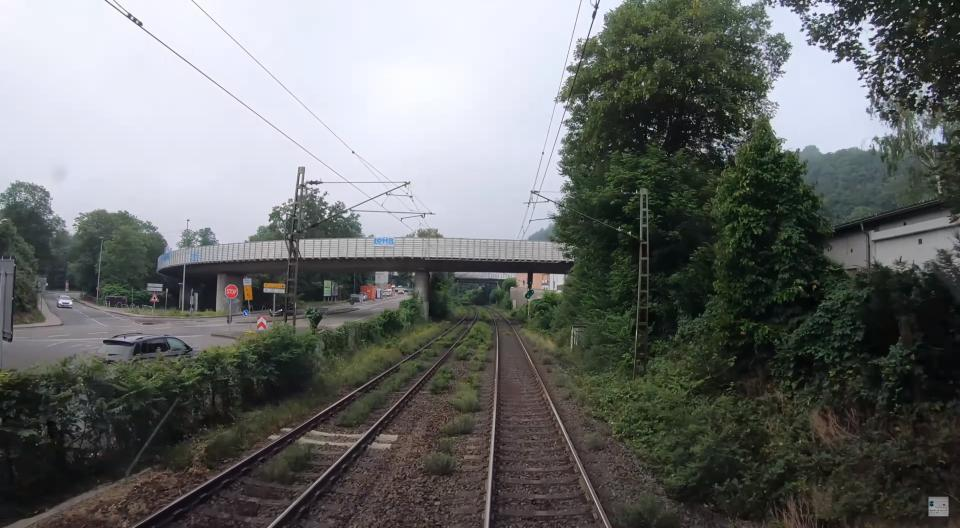Plant: (164, 324, 446, 470), (336, 361, 422, 427), (259, 442, 316, 484), (454, 312, 493, 372), (614, 493, 680, 528), (520, 325, 574, 364), (441, 384, 480, 436), (421, 321, 469, 359), (422, 440, 458, 476), (560, 388, 593, 417), (430, 368, 453, 394), (582, 434, 605, 451), (554, 373, 567, 387), (468, 374, 480, 389), (542, 356, 554, 365)
